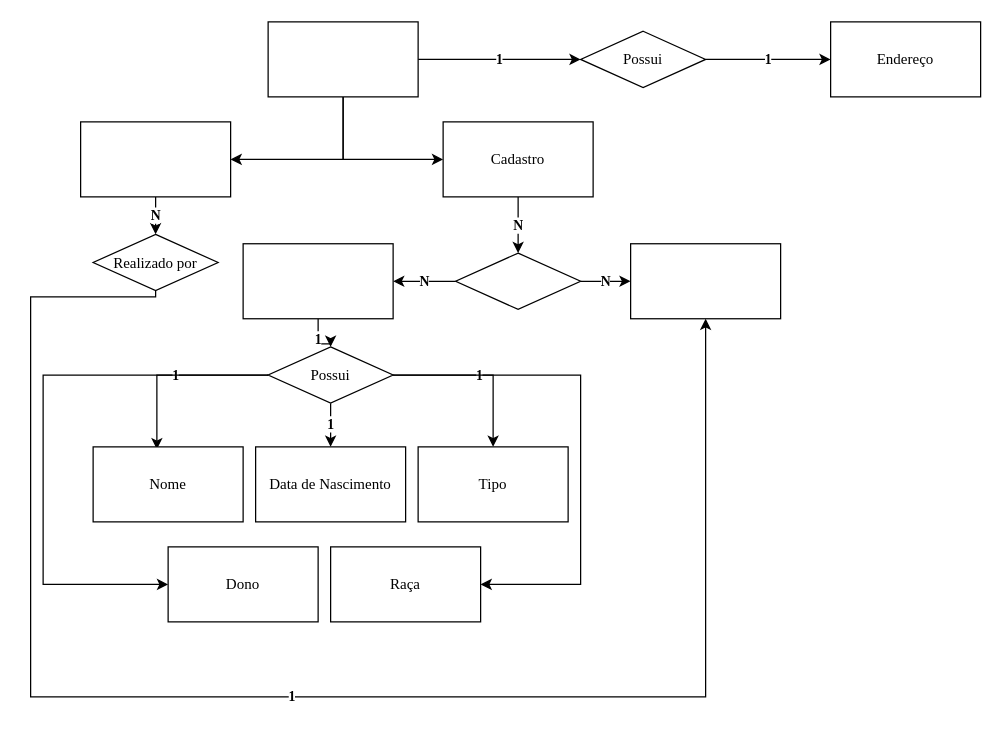
The diagram is 1003 pixels wide and 729 high, and some of its shapes have lost their labels. The centre of each missing label's shape, as x and y in pixels:
Atendimento: the point at 155,159
Clinica: the point at 342,59
Escolher o tipo: the point at 517,280
Pet: the point at 317,280
Veterinário: the point at 705,280
